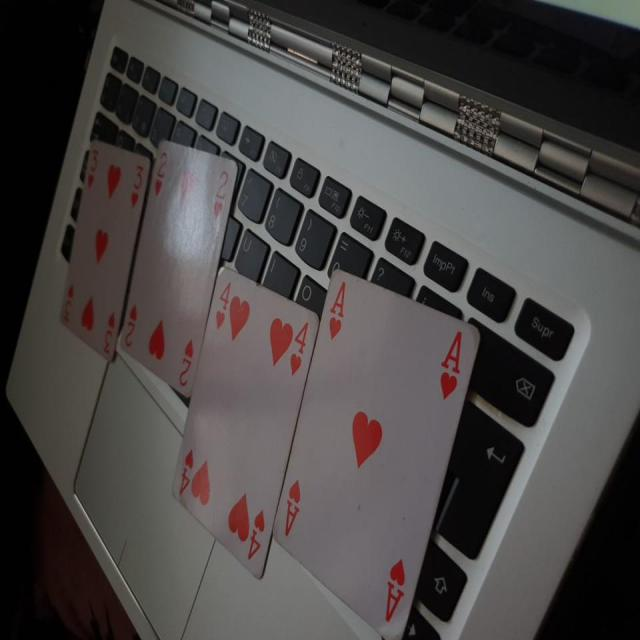2 Hearts: (117, 132, 240, 404)
3 Hearts: (56, 138, 152, 373)
4 Hearts: (164, 260, 324, 596)
A Hearts: (273, 265, 481, 630)
